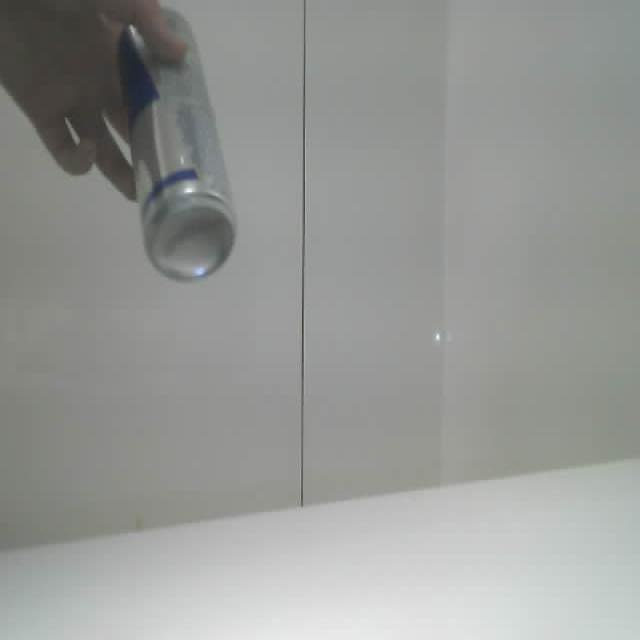redbull can: (119, 10, 234, 281)
